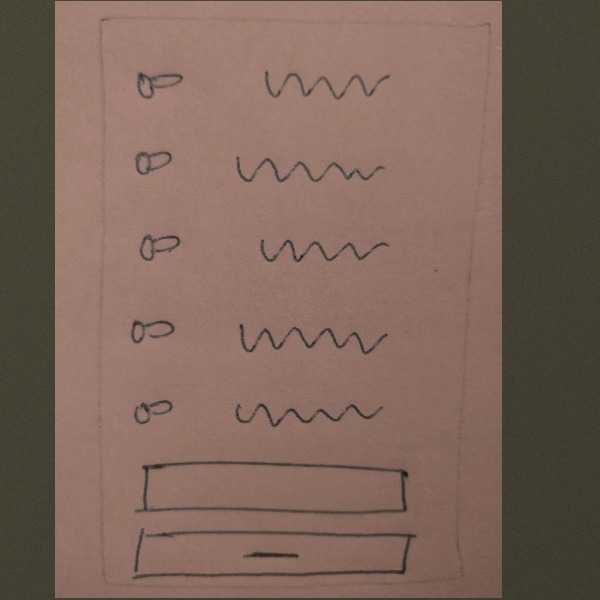button: (129, 523, 420, 586)
switch: (118, 388, 185, 433), (126, 65, 197, 104), (124, 305, 181, 351), (129, 226, 188, 267), (129, 139, 182, 181)
text: (229, 313, 392, 369), (246, 59, 397, 109), (225, 394, 388, 437), (228, 147, 393, 189), (250, 228, 396, 270)
text_input: (129, 455, 417, 518)
